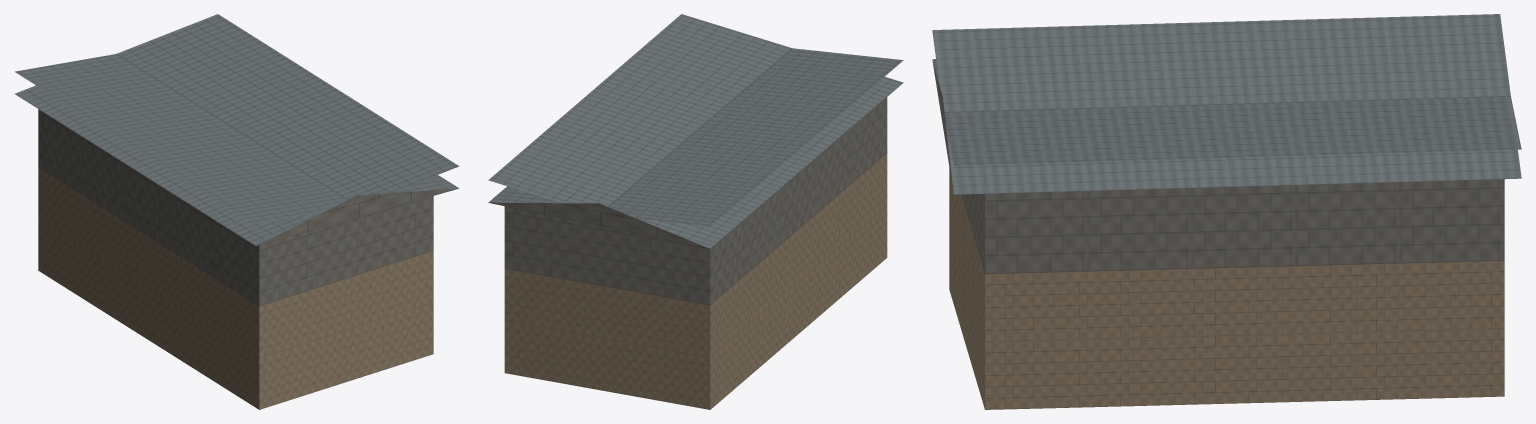
File: bld_c43_33_261.gltf
3 views of the same model, side by side, from view 1: azimuth 30°, elevation 25°; view 2: azimuth 150°, elevation 25°; view 3: azimuth 270°, elevation 25° (orthographic). The views are drawn at different scales.
Visible parts, largest first — view 1: bld_c43_33_261; view 2: bld_c43_33_261; view 3: bld_c43_33_261.
Part boxes in pixels (x1,y1,x2,y2): bld_c43_33_261: (15, 14, 459, 409); bld_c43_33_261: (488, 14, 903, 409); bld_c43_33_261: (932, 14, 1521, 409).
Size of the model in its own units: 11.17 by 8.7 by 18.34.
Materials: 4 (4 with a texture image).
